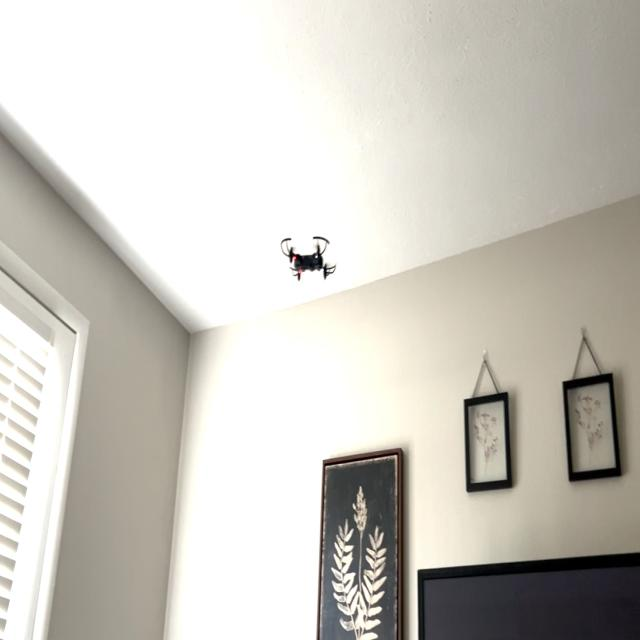drone: (271, 215, 346, 309)
